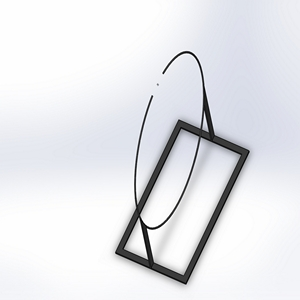circle: (113, 48, 252, 284)
